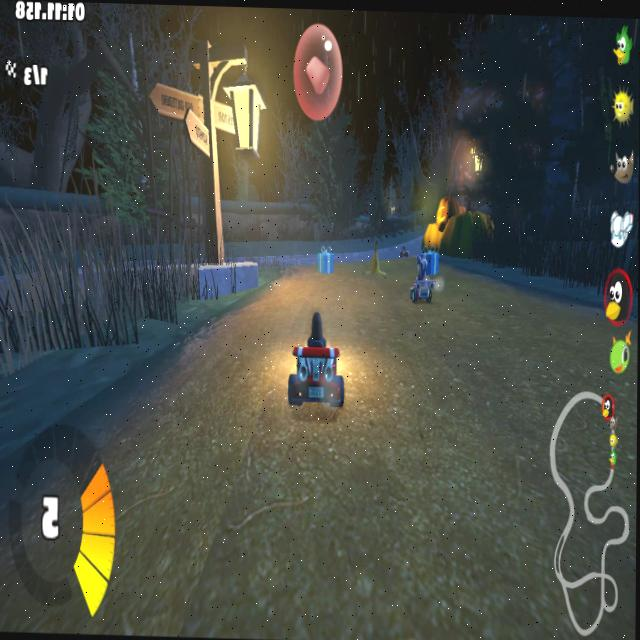bonus: (317, 244, 339, 277)
enemy_kart: (410, 260, 432, 307), (400, 241, 413, 258)
obstacle: (365, 243, 386, 284)
player_kart: (285, 314, 353, 414)
track: (0, 411, 637, 640), (353, 308, 636, 428), (97, 358, 284, 421), (186, 308, 286, 363), (240, 275, 361, 308), (434, 286, 548, 315), (361, 282, 407, 310), (339, 247, 363, 274), (390, 259, 406, 284)
